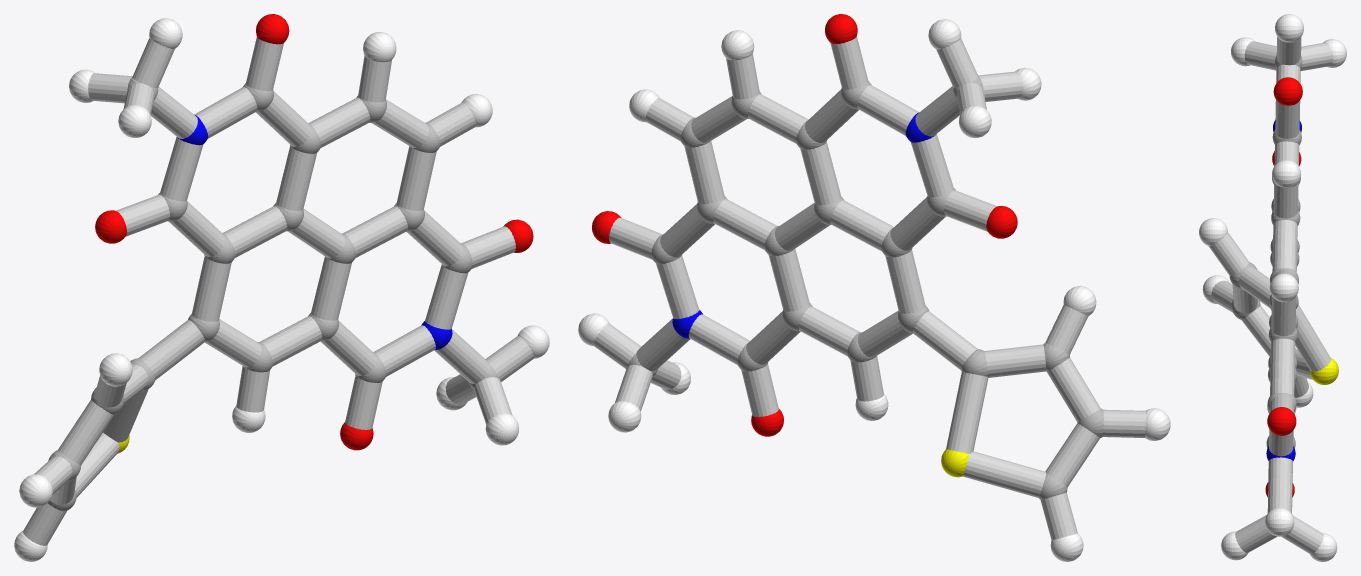
Rendered from Dimethyl_Naphthalene_Dicarboximide_Phi_15_Theta_320_Thiophene.glb.
The picture shows the model from 3 angles, left to right: view 1: azimuth 30°, elevation 25°; view 2: azimuth 150°, elevation 25°; view 3: azimuth 270°, elevation 25°; orthographic projection. The views are drawn at different scales.
Parts seen in each view (by area): view 1: grp14119, grp7241, grp1, grp12309, grp11585; view 2: grp14119, grp7241, grp1, grp12309, grp11585; view 3: grp14119, grp7241, grp1, grp12309, grp13757, grp11585.
Boxes of the visible parts, x1=… form: grp14119: x1=23, y1=37, x2=534, y2=545; grp7241: x1=14, y1=18, x2=549, y2=561; grp1: x1=48, y1=77, x2=499, y2=511; grp12309: x1=95, y1=14, x2=533, y2=450; grp11585: x1=177, y1=115, x2=452, y2=349; grp14119: x1=593, y1=36, x2=1146, y2=540; grp7241: x1=578, y1=19, x2=1170, y2=561; grp1: x1=627, y1=76, x2=1103, y2=499; grp12309: x1=592, y1=14, x2=1017, y2=436; grp11585: x1=672, y1=112, x2=935, y2=338; grp14119: x1=1208, y1=37, x2=1332, y2=554; grp7241: x1=1199, y1=14, x2=1346, y2=561; grp1: x1=1229, y1=55, x2=1302, y2=516; grp12309: x1=1265, y1=77, x2=1302, y2=497; grp13757: x1=1309, y1=358, x2=1338, y2=384; grp11585: x1=1266, y1=120, x2=1301, y2=461.
Bounding box in the file's own units: 11.6 × 10.12 × 3.04.
